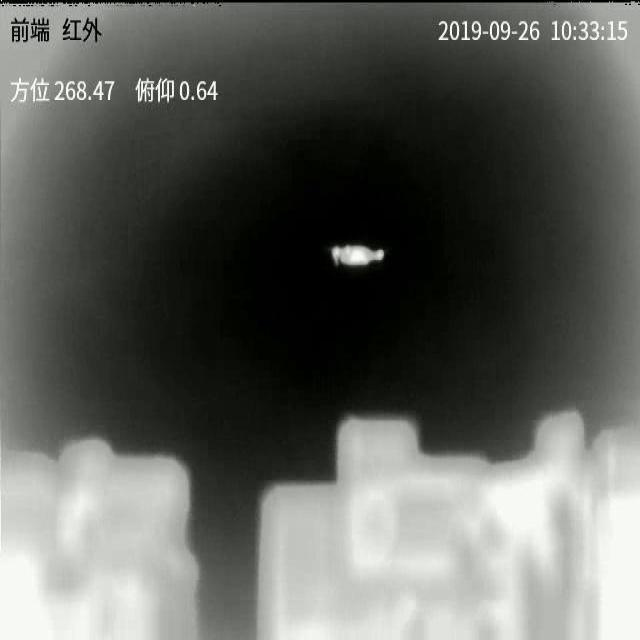drone: (332, 245, 385, 266)
